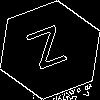Z: (25, 25, 74, 79)
